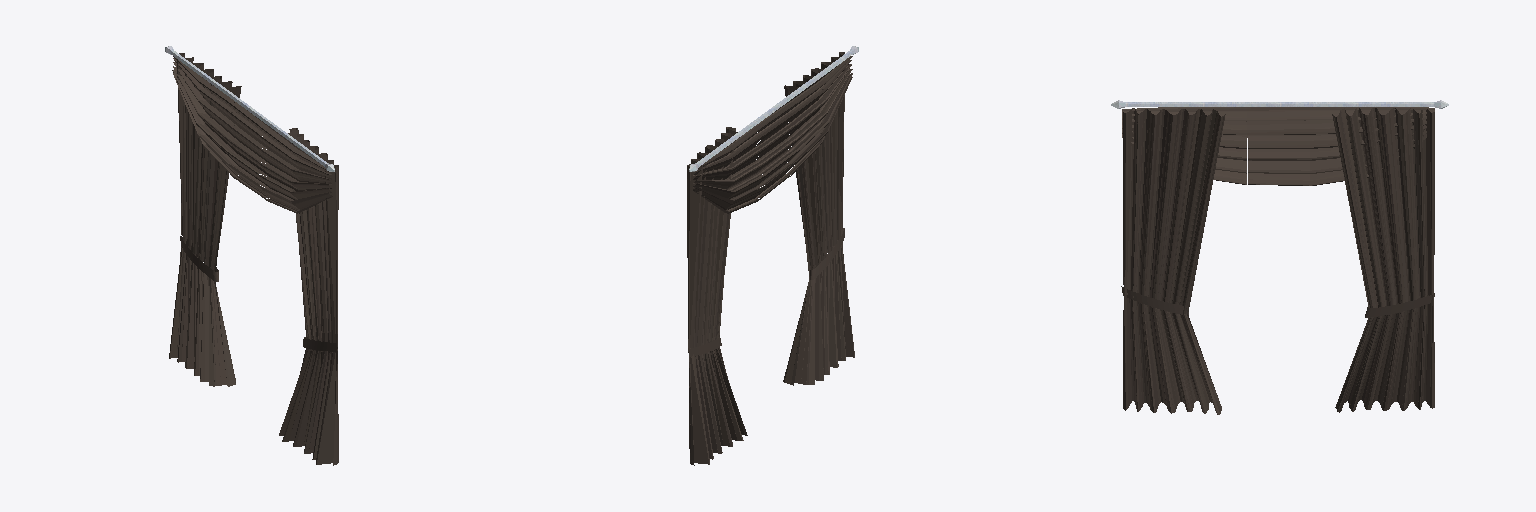
3 views of the same model, side by side, from view 1: azimuth 30°, elevation 25°; view 2: azimuth 150°, elevation 25°; view 3: azimuth 270°, elevation 25° (orthographic).
Parts seen in each view (by area): view 1: Mesh3 Group3 Model, Mesh9 Group5 Model, Mesh4 Group3 Model, Mesh10 Group5 Model, Mesh7 Group4 Model, Mesh6 Group4 Model, Mesh5 Group4 Model, Mesh8 Group4 Model, Mesh13 Group6 Model; view 2: Mesh3 Group3 Model, Mesh10 Group5 Model, Mesh9 Group5 Model, Mesh4 Group3 Model, Mesh7 Group4 Model, Mesh6 Group4 Model, Mesh8 Group4 Model, Mesh5 Group4 Model, Mesh13 Group6 Model; view 3: Mesh9 Group5 Model, Mesh3 Group3 Model, Mesh10 Group5 Model, Mesh4 Group3 Model, Mesh7 Group4 Model, Mesh6 Group4 Model, Mesh13 Group6 Model, Mesh2 Group2 Model.
Boxes of the visible parts, box(x1,y1,x2,y2) form: Mesh3 Group3 Model: box(177, 53, 241, 271); Mesh9 Group5 Model: box(288, 128, 338, 348); Mesh4 Group3 Model: box(169, 237, 235, 386); Mesh10 Group5 Model: box(279, 348, 338, 465); Mesh7 Group4 Model: box(196, 80, 269, 199); Mesh6 Group4 Model: box(259, 125, 300, 213); Mesh5 Group4 Model: box(290, 148, 332, 213); Mesh8 Group4 Model: box(172, 56, 206, 144); Mesh13 Group6 Model: box(171, 51, 327, 166); Mesh3 Group3 Model: box(687, 127, 737, 347); Mesh10 Group5 Model: box(783, 240, 854, 385); Mesh9 Group5 Model: box(784, 52, 845, 276); Mesh4 Group3 Model: box(688, 347, 747, 465); Mesh7 Group4 Model: box(725, 102, 796, 213); Mesh6 Group4 Model: box(787, 79, 828, 176); Mesh8 Group4 Model: box(693, 148, 734, 213); Mesh5 Group4 Model: box(818, 56, 852, 142); Mesh13 Group6 Model: box(696, 51, 852, 166); Mesh9 Group5 Model: box(1123, 108, 1225, 313); Mesh3 Group3 Model: box(1332, 108, 1434, 307); Mesh10 Group5 Model: box(1123, 295, 1221, 414); Mesh4 Group3 Model: box(1335, 294, 1434, 412); Mesh7 Group4 Model: box(1247, 107, 1372, 185); Mesh6 Group4 Model: box(1185, 107, 1246, 184); Mesh13 Group6 Model: box(1126, 102, 1433, 106); Mesh2 Group2 Model: box(1365, 293, 1434, 317).
Bounding box in the file's own units: 25.49 × 235 × 237.
Materials: 2 (1 with a texture image).